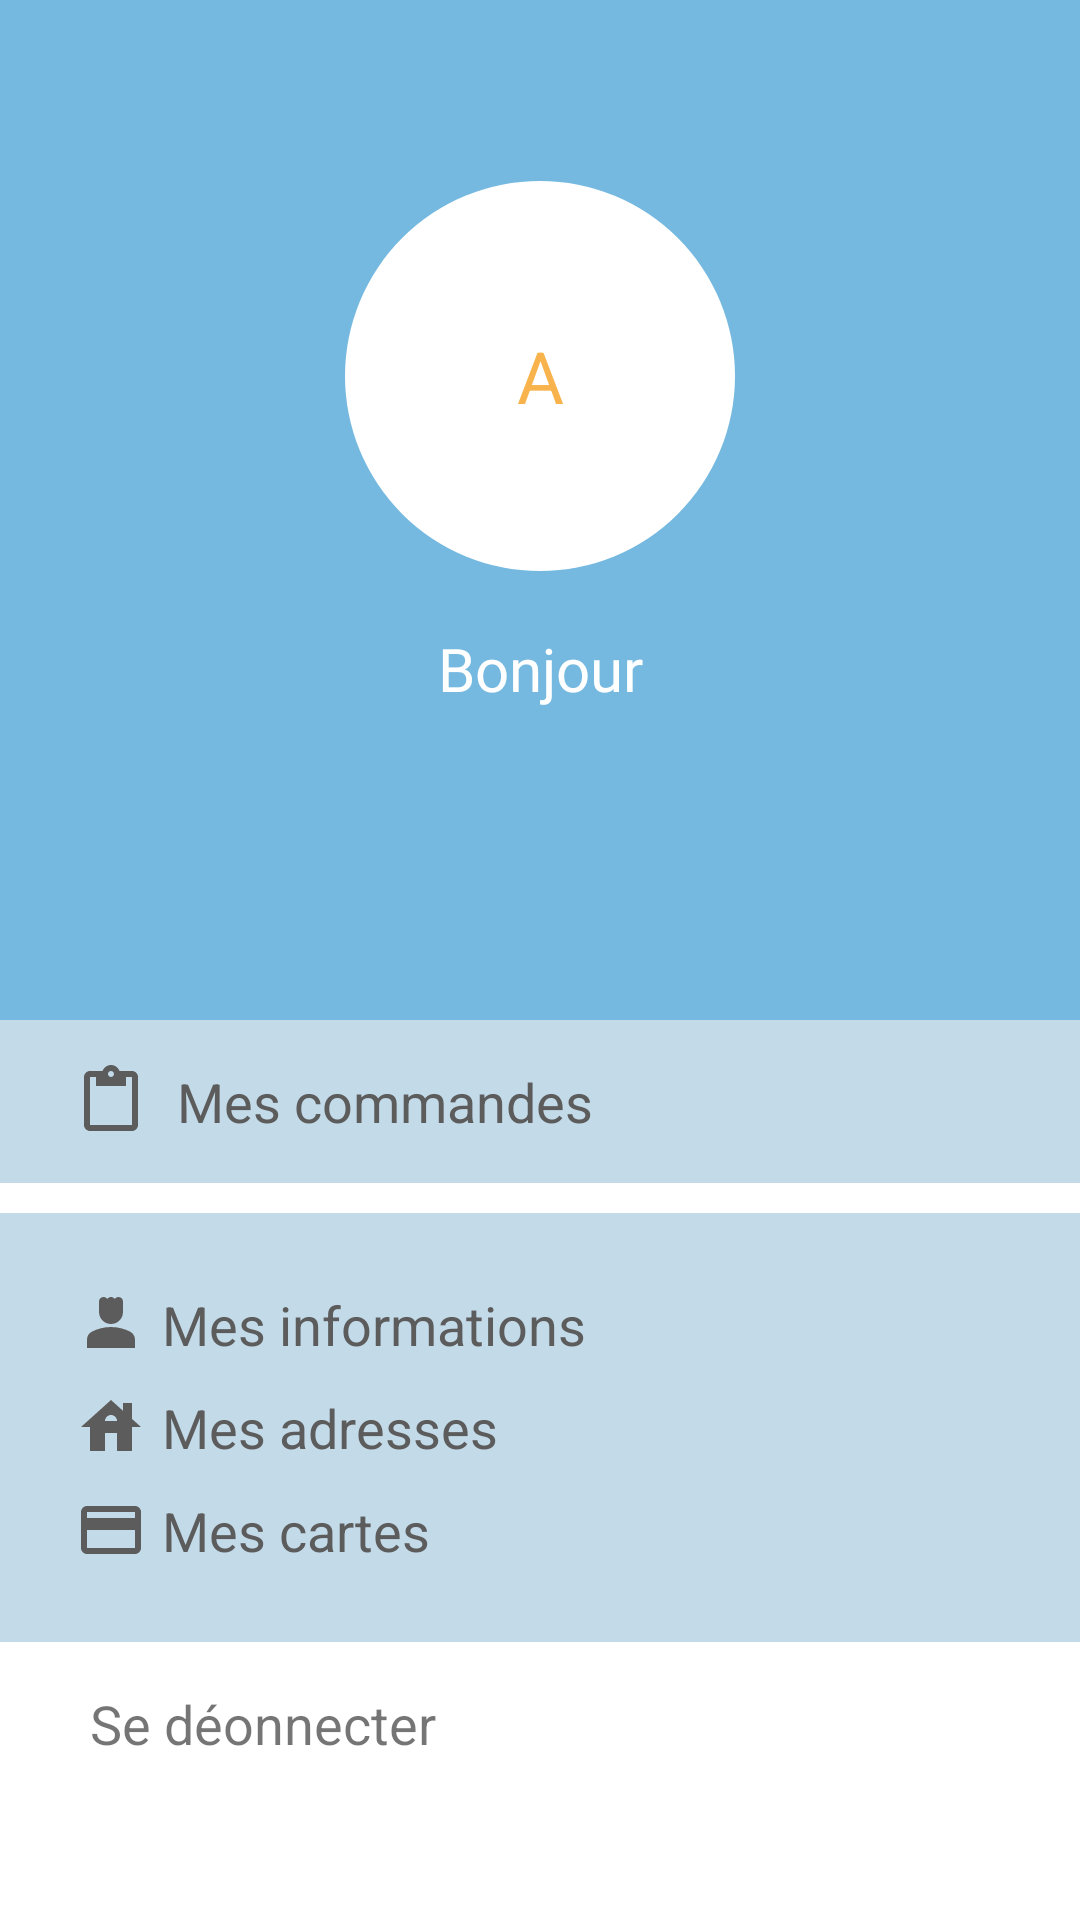

Named icons in this screenshot (1080px x 1920px) and their bounding boxes, (x1, y1, x2, y2):
content paste: (84, 1065, 138, 1131)
credit card: (81, 1506, 141, 1554)
house: (81, 1400, 141, 1451)
person: (87, 1297, 135, 1348)
